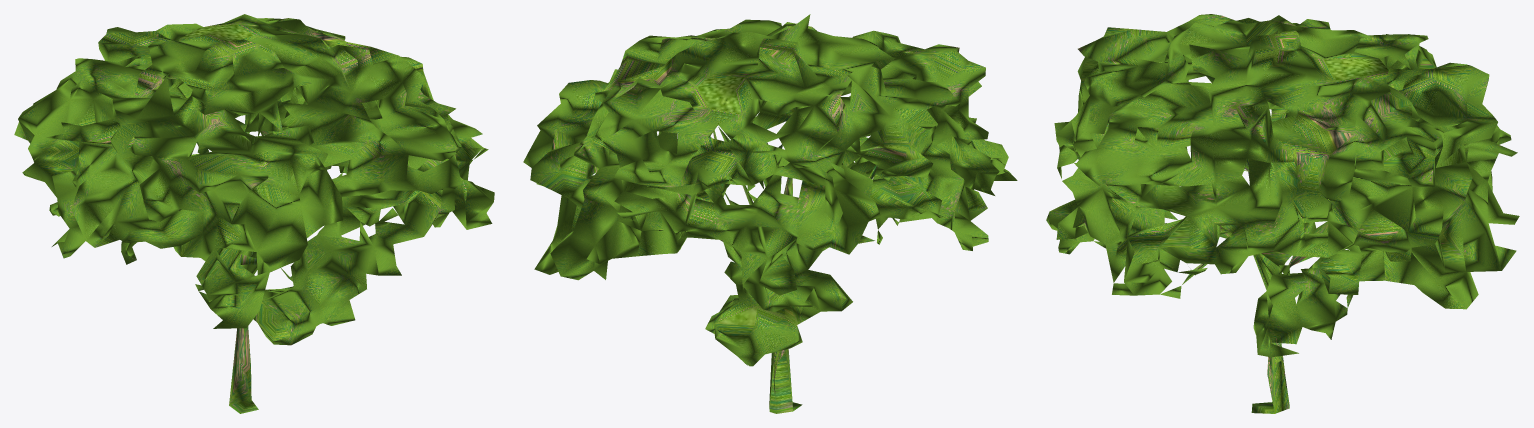
The model's file is rain_tree.glb.
The picture shows the model from 3 angles, left to right: view 1: azimuth 30°, elevation 25°; view 2: azimuth 150°, elevation 25°; view 3: azimuth 270°, elevation 25°; orthographic projection. The views are drawn at different scales.
Bounding box in the file's own units: 16.83 × 14 × 16.21.
Materials: 1 (1 with a texture image).
